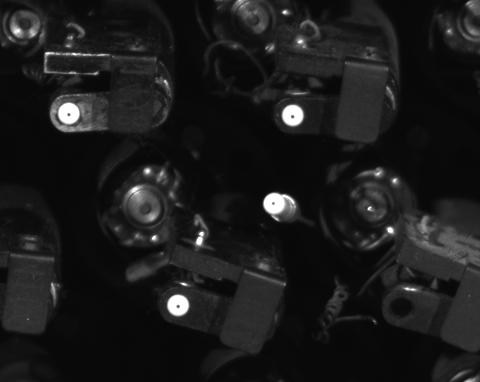fiber: (164, 291, 196, 323), (274, 103, 309, 131), (262, 187, 291, 219), (56, 100, 85, 128)
